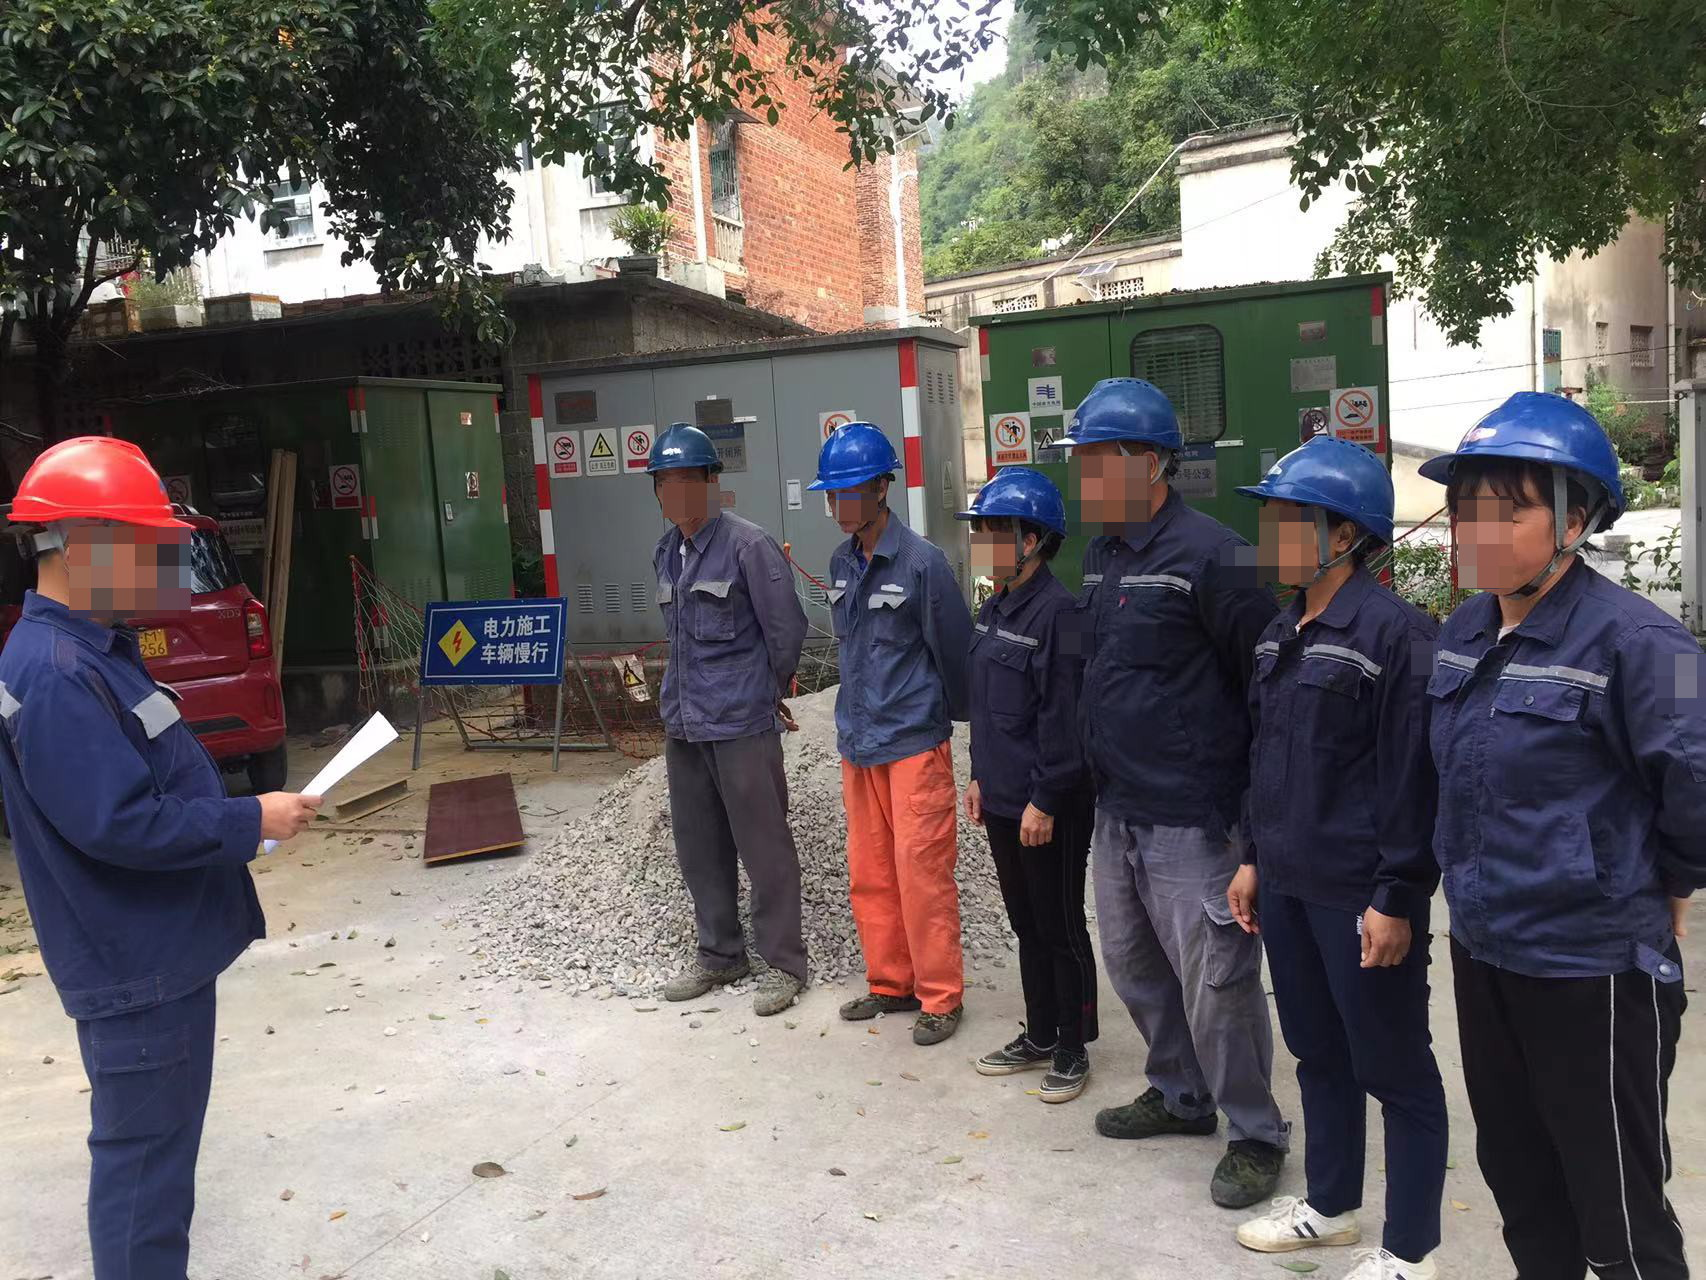downcloth: (1450, 973, 1701, 1280), (1260, 912, 1451, 1230), (663, 737, 809, 963), (987, 813, 1105, 1051)
downsuit: (1101, 826, 1284, 1138), (68, 1007, 223, 1280)
halt: (1428, 391, 1631, 585), (5, 434, 180, 612), (1250, 433, 1400, 598), (1063, 376, 1188, 530), (964, 464, 1069, 585), (815, 422, 905, 534), (644, 424, 728, 524)
hand: (257, 785, 328, 848), (1357, 911, 1410, 974), (1225, 854, 1262, 935), (1019, 800, 1049, 851), (964, 776, 987, 830)
inear: (1540, 466, 1609, 568), (44, 523, 125, 594), (1302, 508, 1367, 571), (1115, 444, 1172, 501), (1006, 514, 1049, 572), (861, 473, 895, 516)
person: (2, 416, 332, 1280), (1406, 387, 1706, 1279), (1069, 373, 1287, 1208), (1236, 426, 1446, 1271), (632, 425, 812, 983), (973, 429, 1114, 1106), (815, 422, 967, 1028)
upsuit: (1, 595, 272, 1002), (1436, 558, 1706, 933), (1077, 507, 1268, 831), (1260, 606, 1426, 893), (650, 508, 811, 731), (829, 522, 973, 744), (976, 576, 1085, 805)
ydownsuit: (838, 757, 969, 1011)
